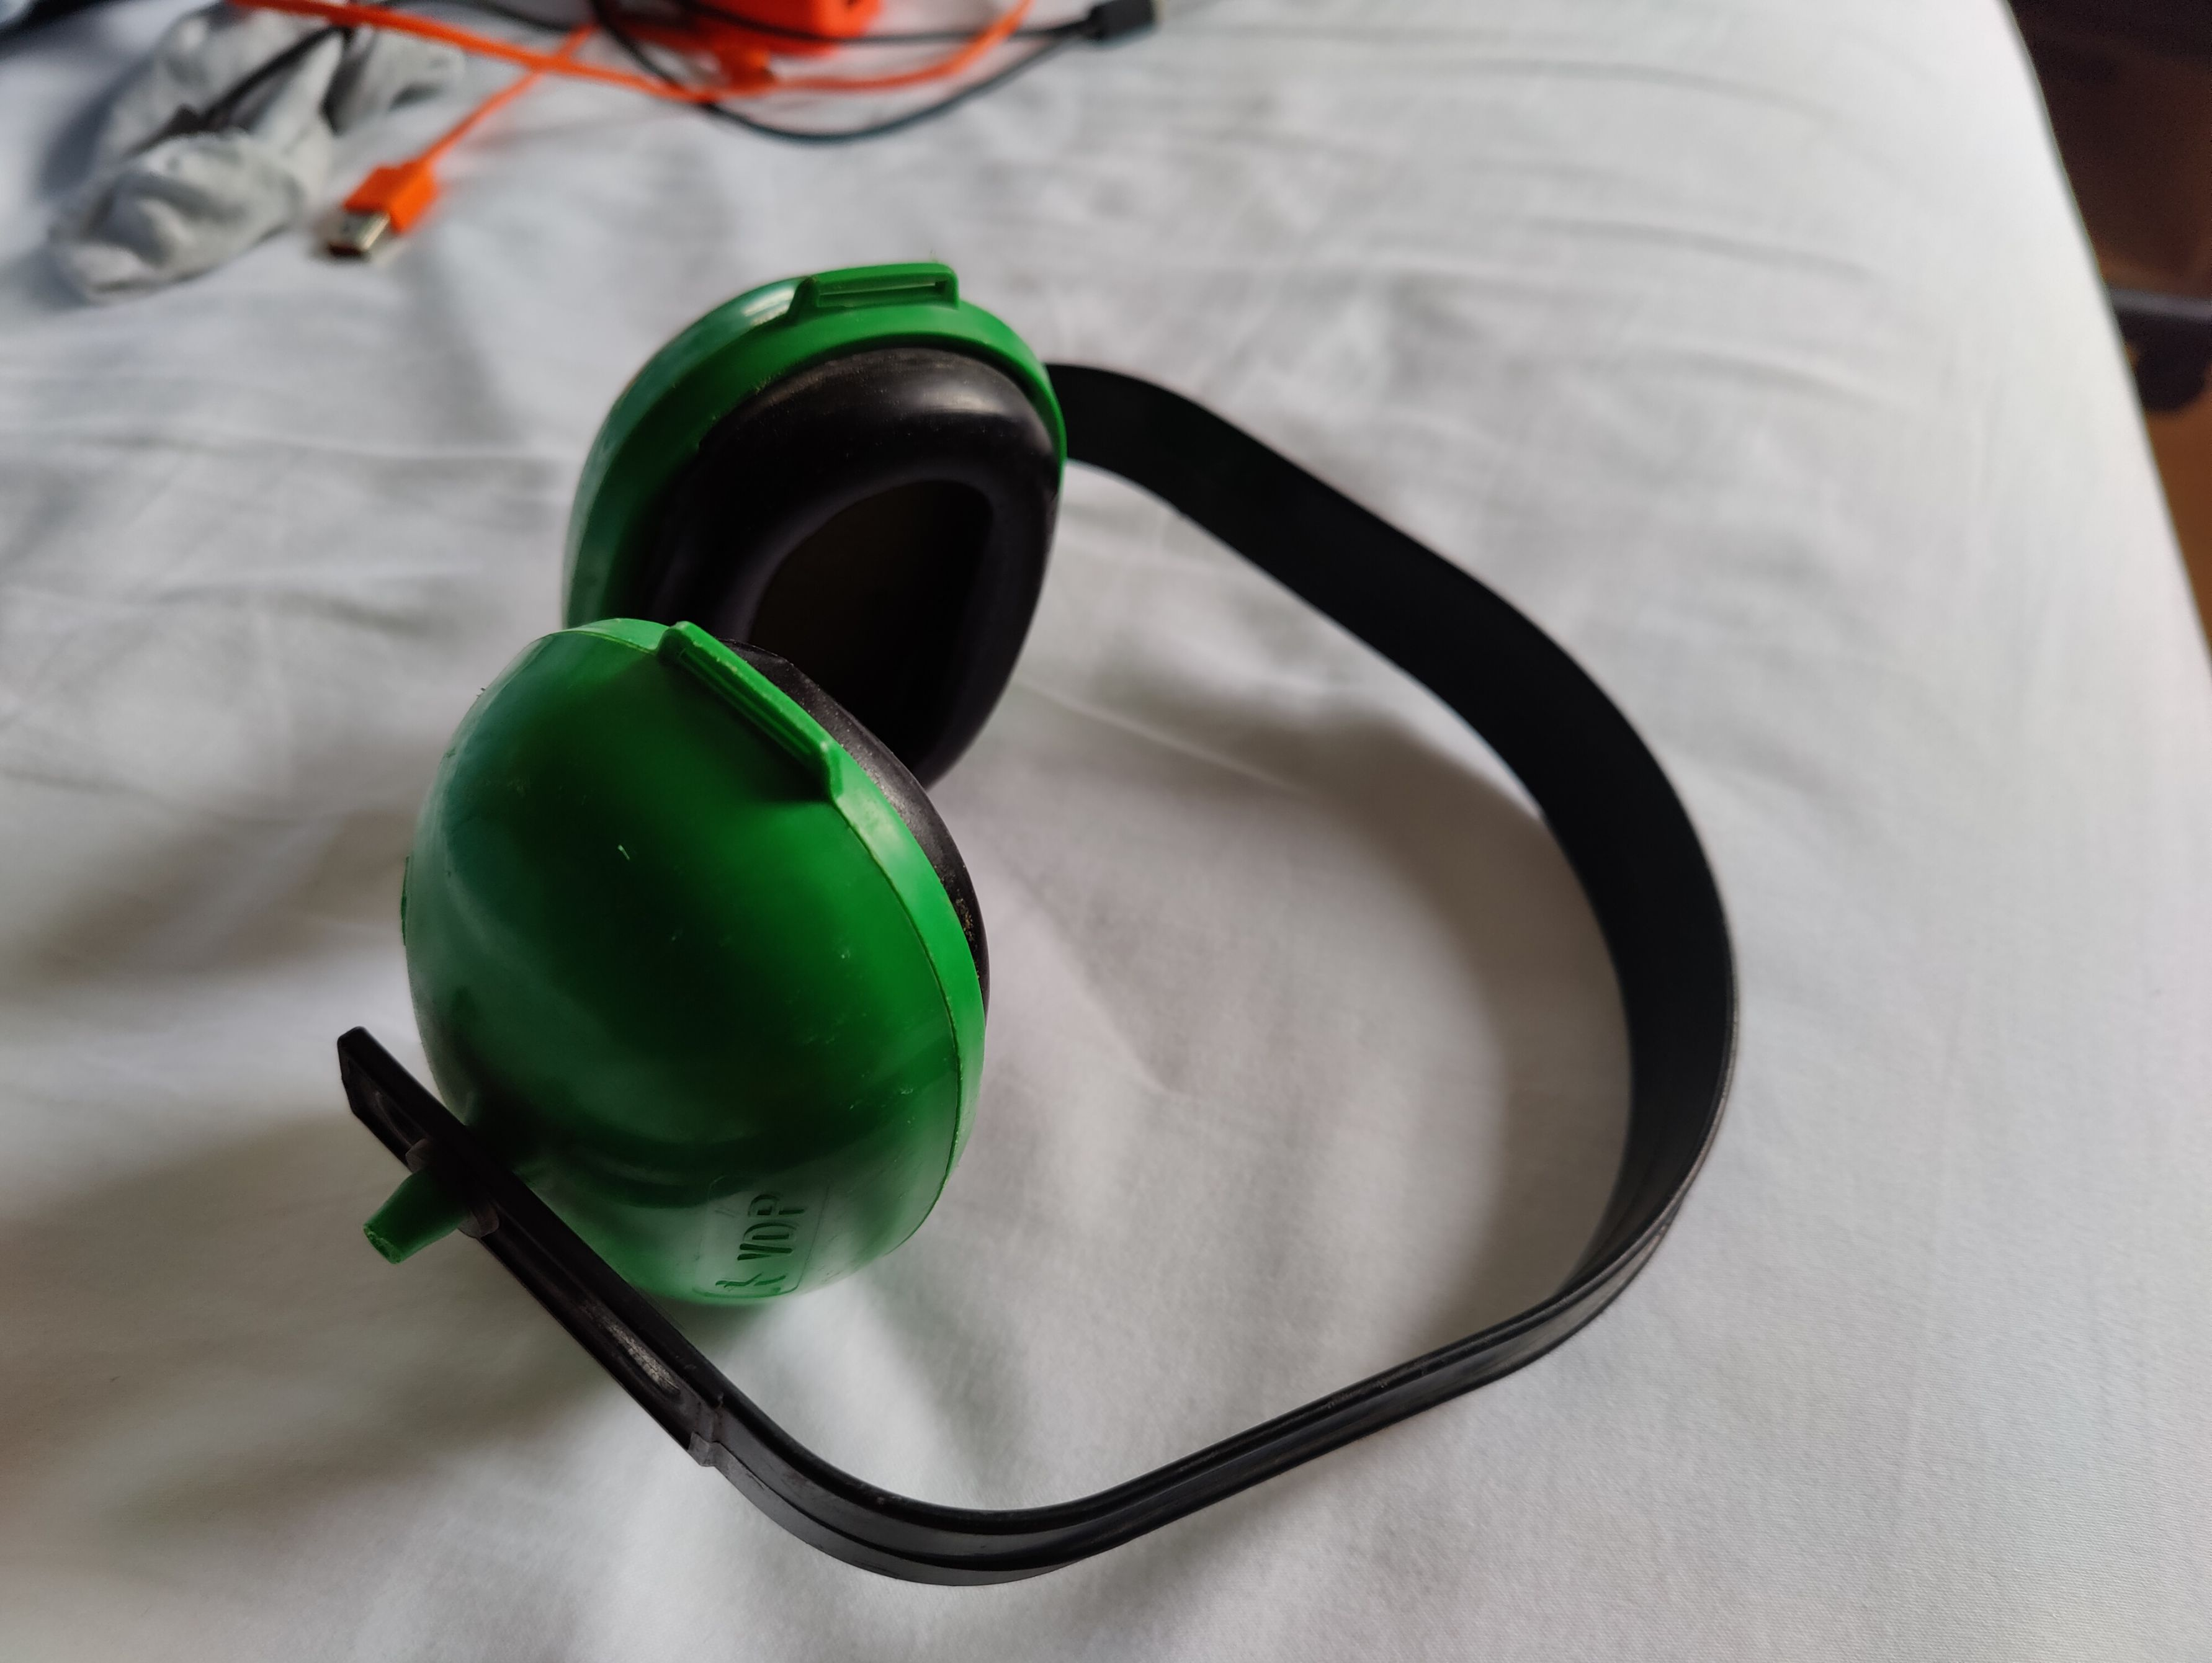headphones: (339, 262, 1744, 1590)
